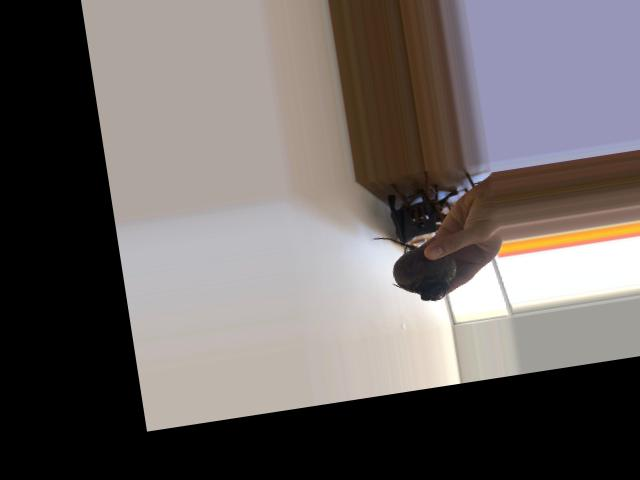beet: (370, 226, 460, 308)
